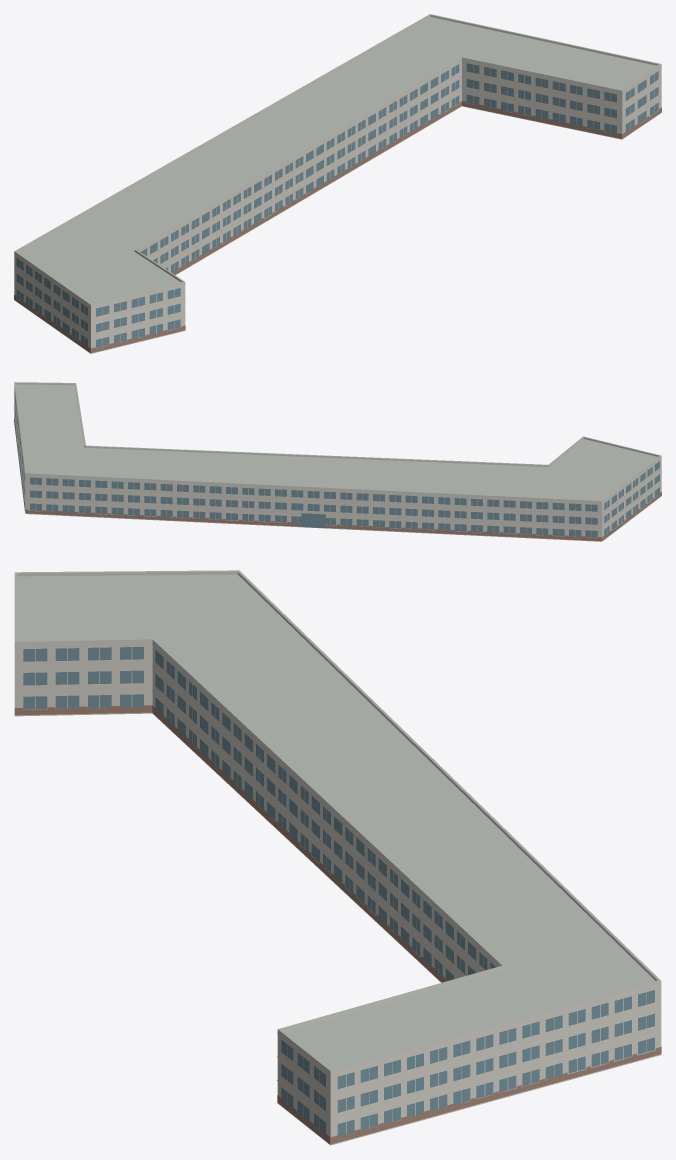
The model's file is public-37ff7332-5fad-46c1-bda0-c3cf19d6e8d6.glb.
The picture shows the model from 3 angles, top to bottom: view 1: azimuth 30°, elevation 25°; view 2: azimuth 150°, elevation 25°; view 3: azimuth 270°, elevation 25°; orthographic projection. The views are drawn at different scales.
Parts seen in each view (by area): view 1: public-37ff7332-5fad-46c1-bda0-c3cf19d6e8d6; view 2: public-37ff7332-5fad-46c1-bda0-c3cf19d6e8d6; view 3: public-37ff7332-5fad-46c1-bda0-c3cf19d6e8d6.
Boxes of the visible parts, x1=… form: public-37ff7332-5fad-46c1-bda0-c3cf19d6e8d6: x1=14, y1=14, x2=661, y2=353; public-37ff7332-5fad-46c1-bda0-c3cf19d6e8d6: x1=14, y1=382, x2=661, y2=541; public-37ff7332-5fad-46c1-bda0-c3cf19d6e8d6: x1=14, y1=570, x2=661, y2=1145.
Bounding box in the file's own units: 133 × 9.15 × 72.39.
